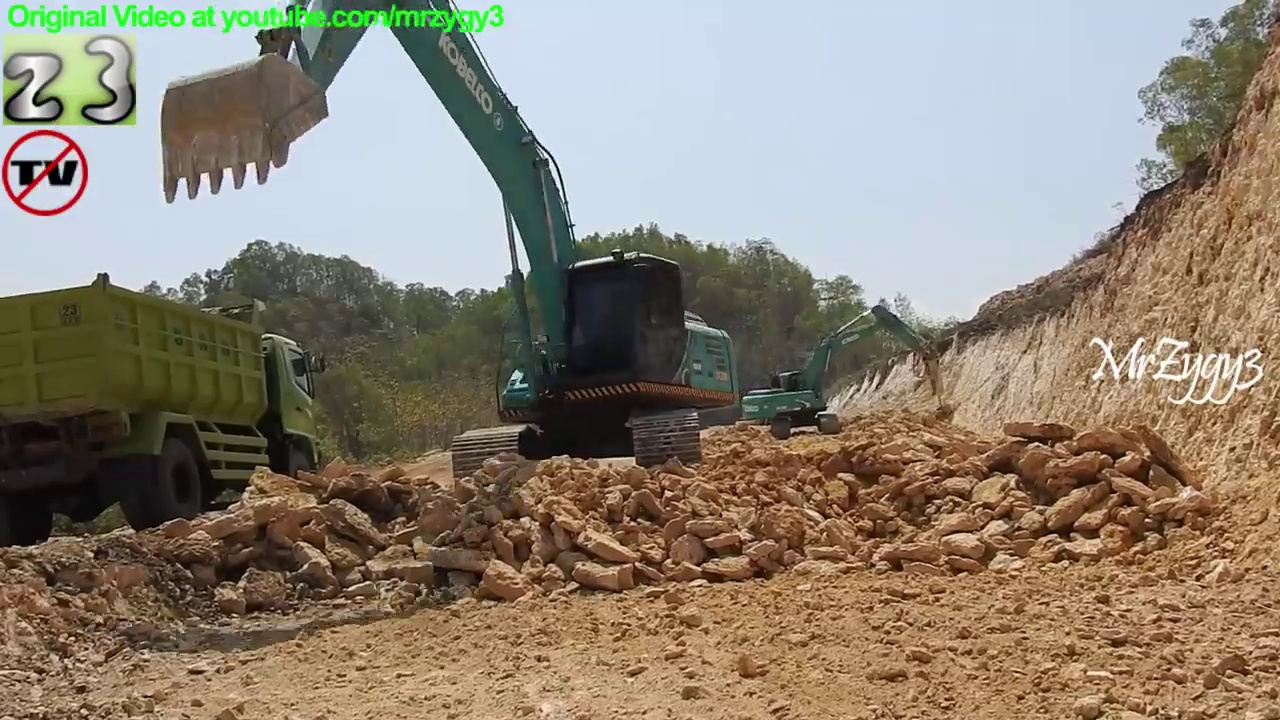excavator: (154, 1, 747, 496)
excavator breaker: (737, 302, 950, 447)
truck: (1, 268, 333, 554)
